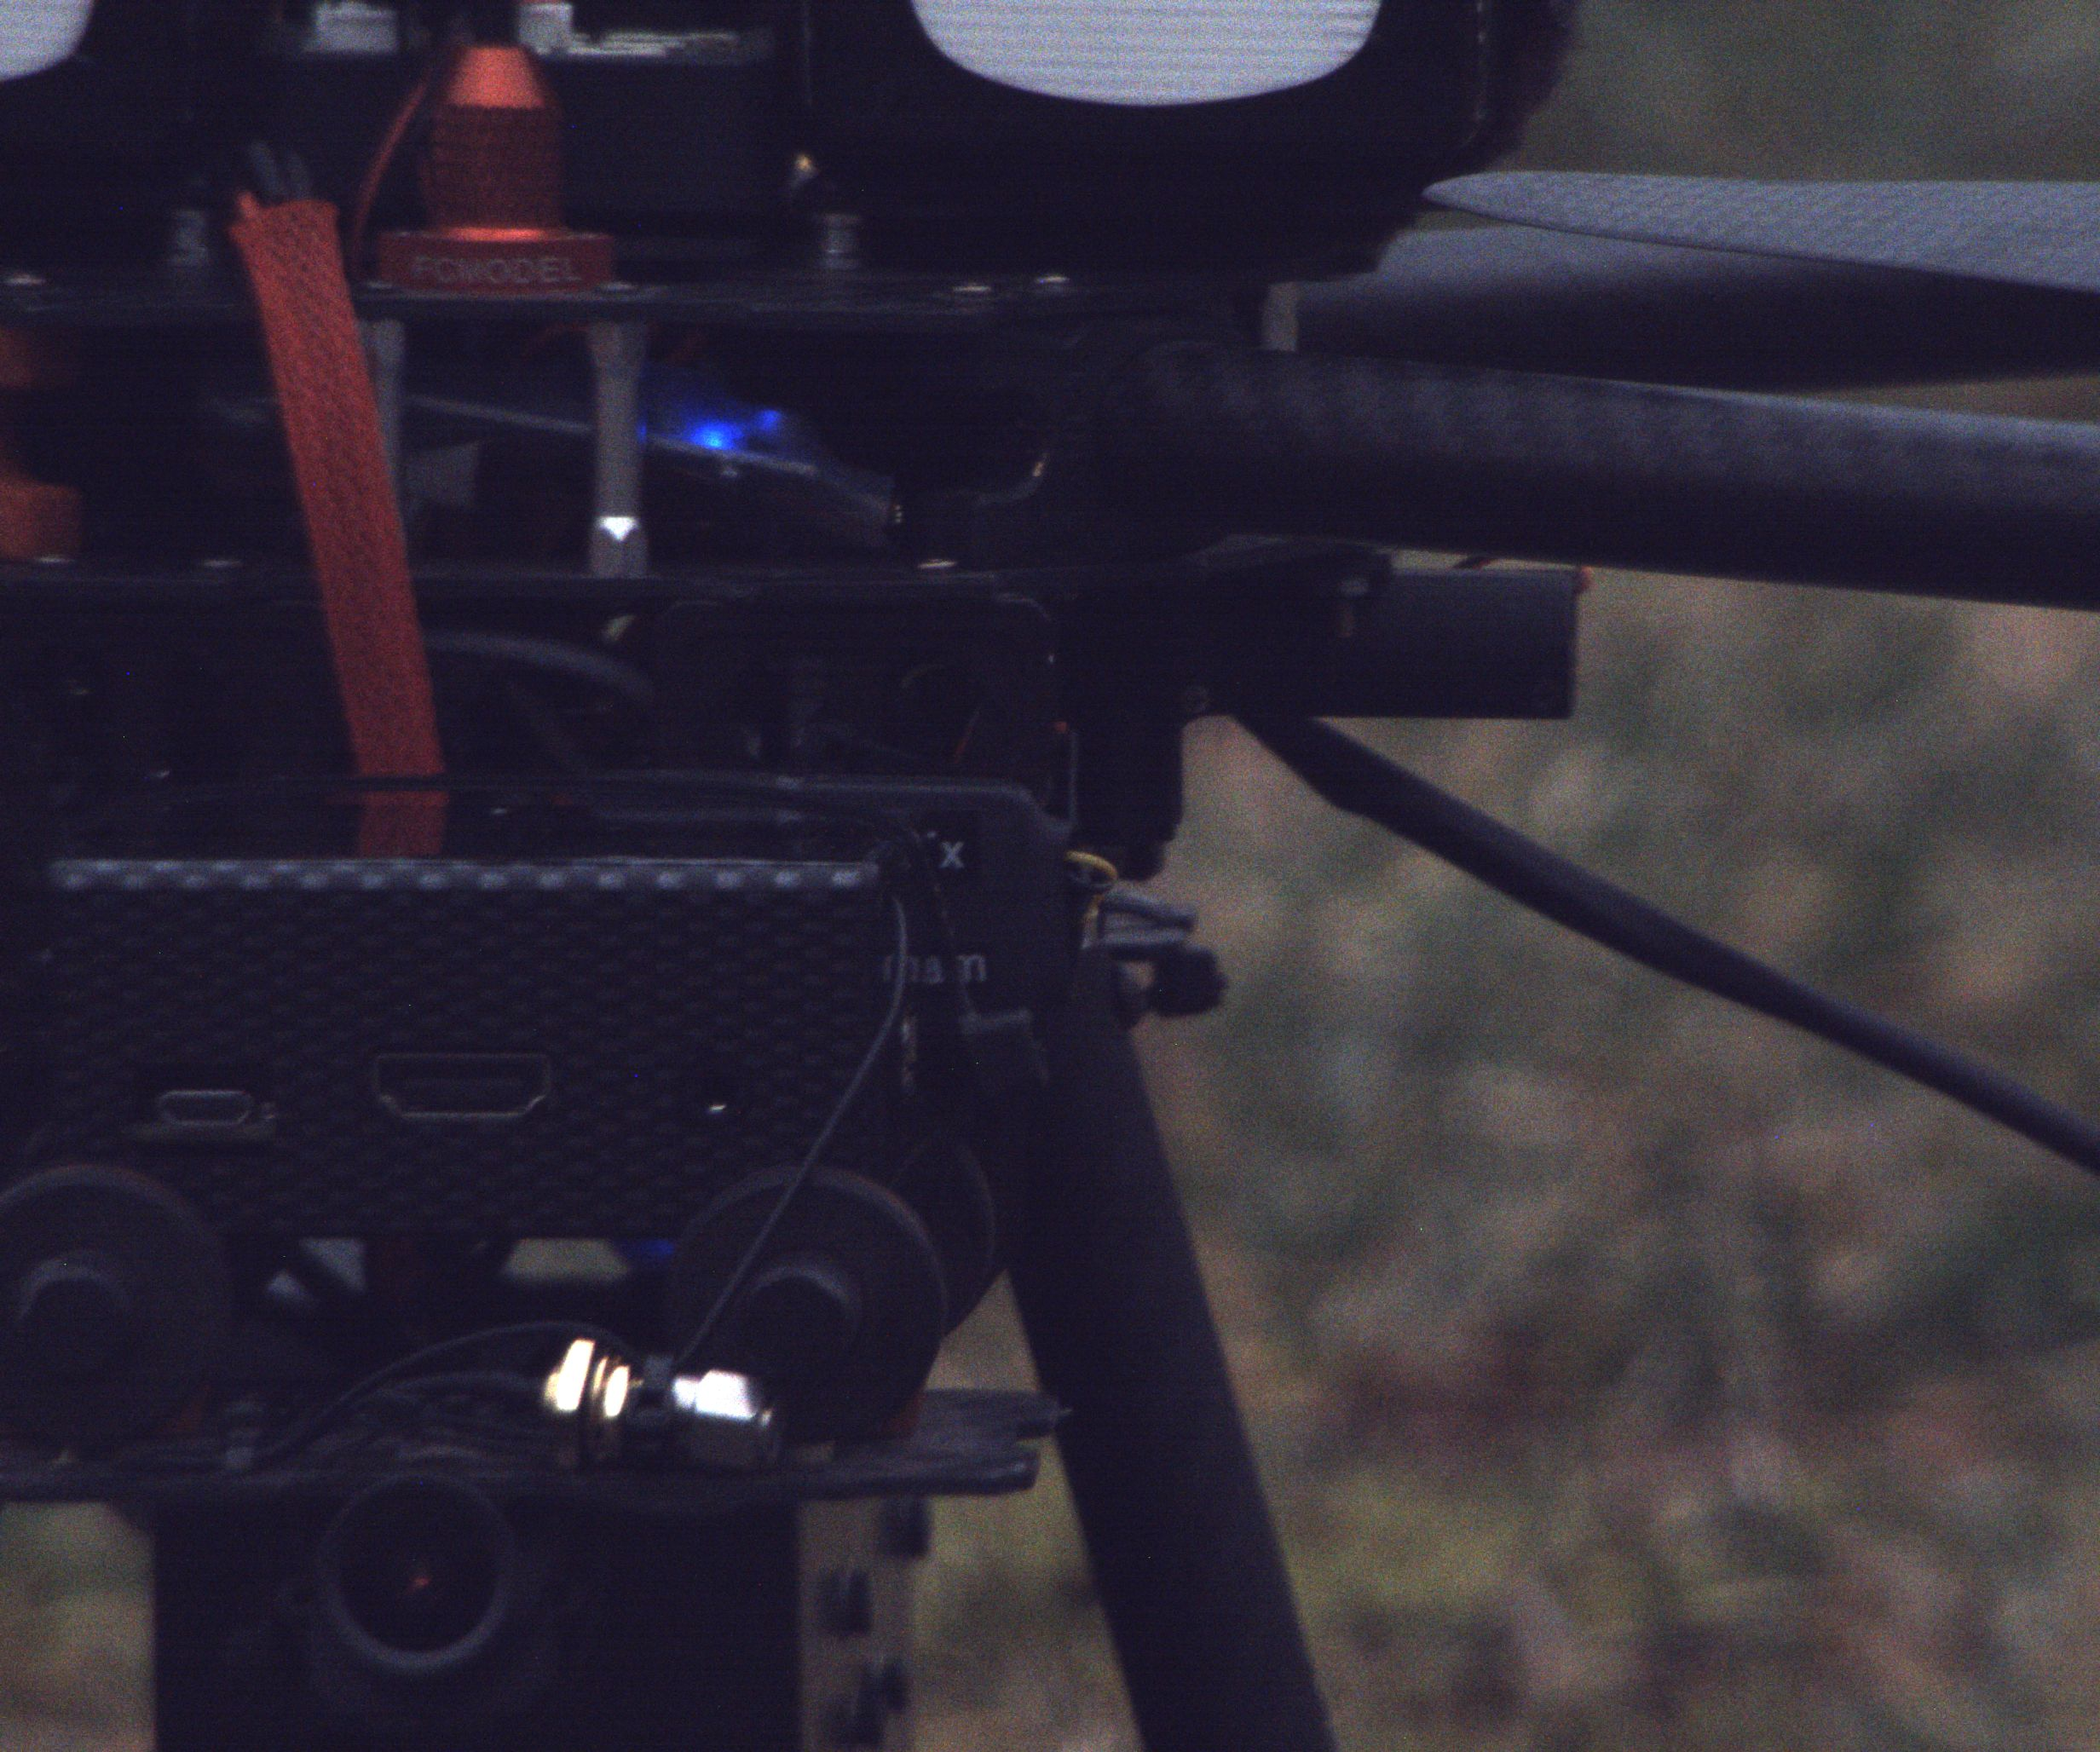Drohne: (7, 2, 2091, 1752)
